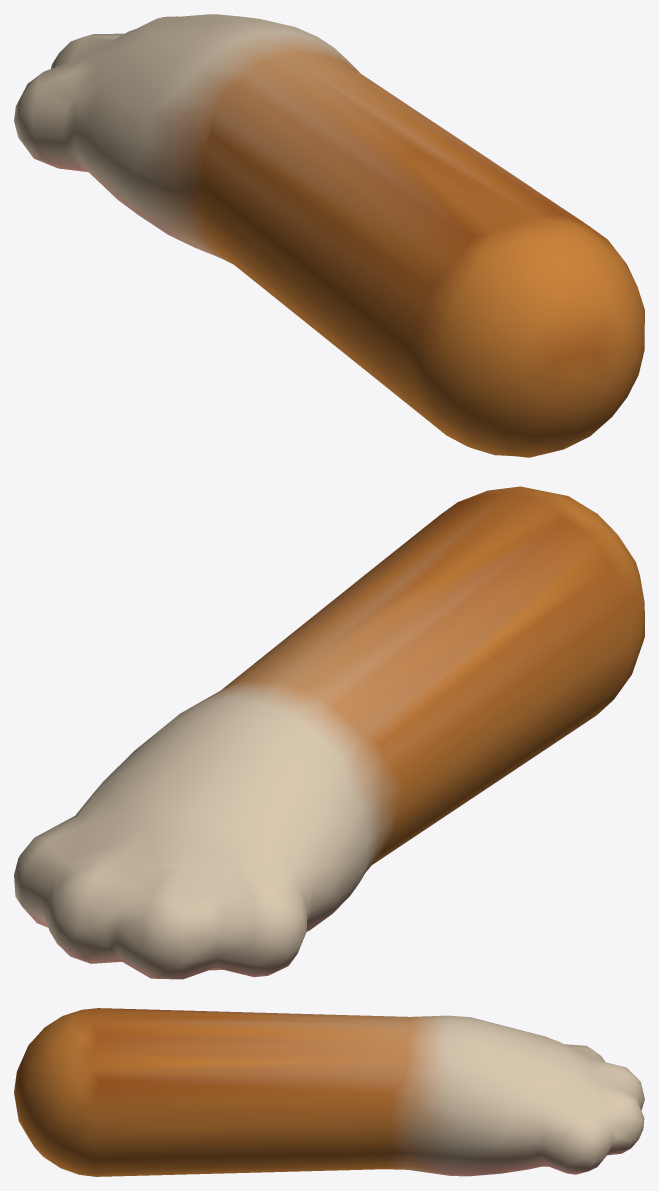
Rendered from tay_tran.glb.
3 renders of one model, top to bottom at view 1: azimuth 30°, elevation 25°; view 2: azimuth 150°, elevation 25°; view 3: azimuth 270°, elevation 25°, orthographic. The views are drawn at different scales.
Parts seen in each view (by area): view 1: tay_tran.001; view 2: tay_tran.001; view 3: tay_tran.001.
Boxes of the visible parts, x1=… form: tay_tran.001: x1=14, y1=14, x2=644, y2=457; tay_tran.001: x1=14, y1=486, x2=644, y2=979; tay_tran.001: x1=14, y1=1008, x2=644, y2=1176.
Size of the model in its own units: 0.1136 by 0.09 by 0.3361.
